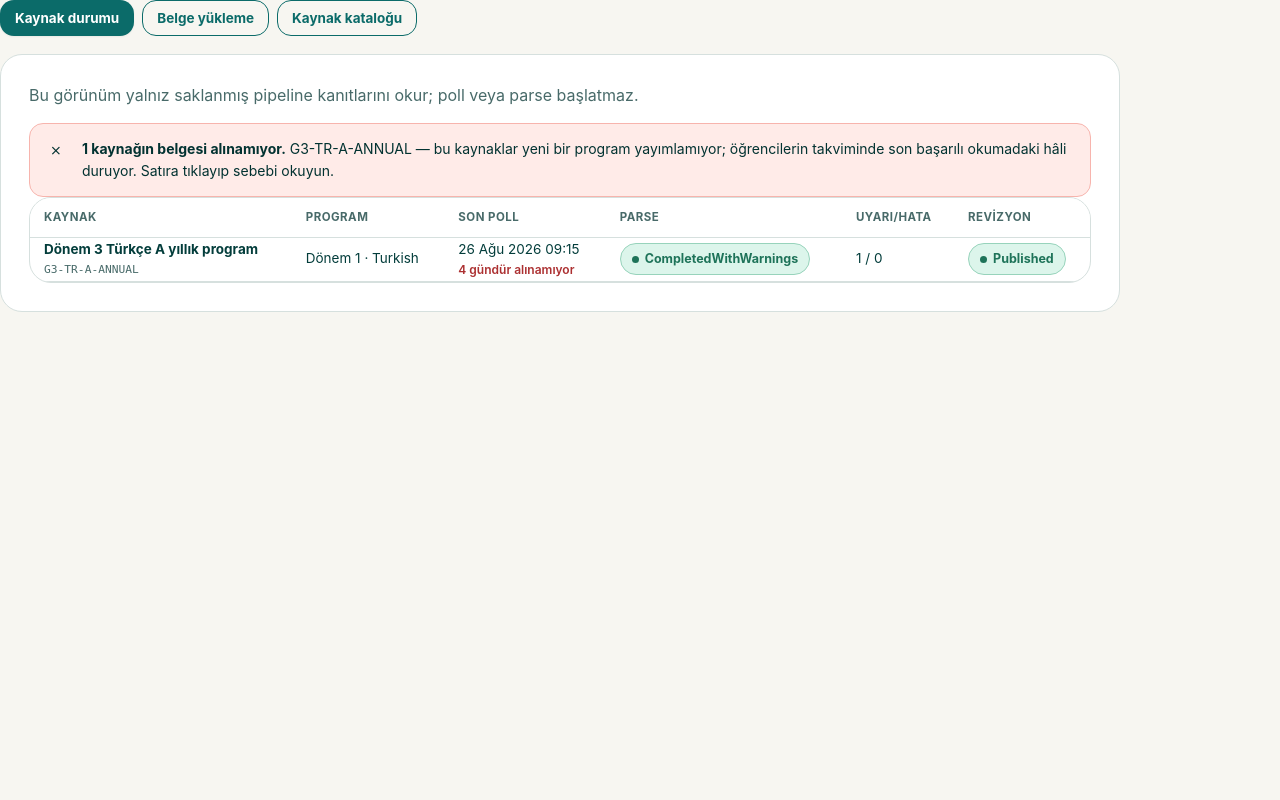
it: AdminSourceWorkspace › says a source whose document cannot be acquired is failing, and for how long
Expected: the text "1 kaynağın belgesi alınamıyor." is shown, [82, 140, 286, 157]
Expected: the text "4 gündür alınamıyor" is shown, [458, 260, 592, 280]
And the reason itself, which is the part that says what to do about it.
Click the text "Dönem 3 Türkçe A yıllık program" at coordinates (151, 250), box [44, 242, 258, 258]
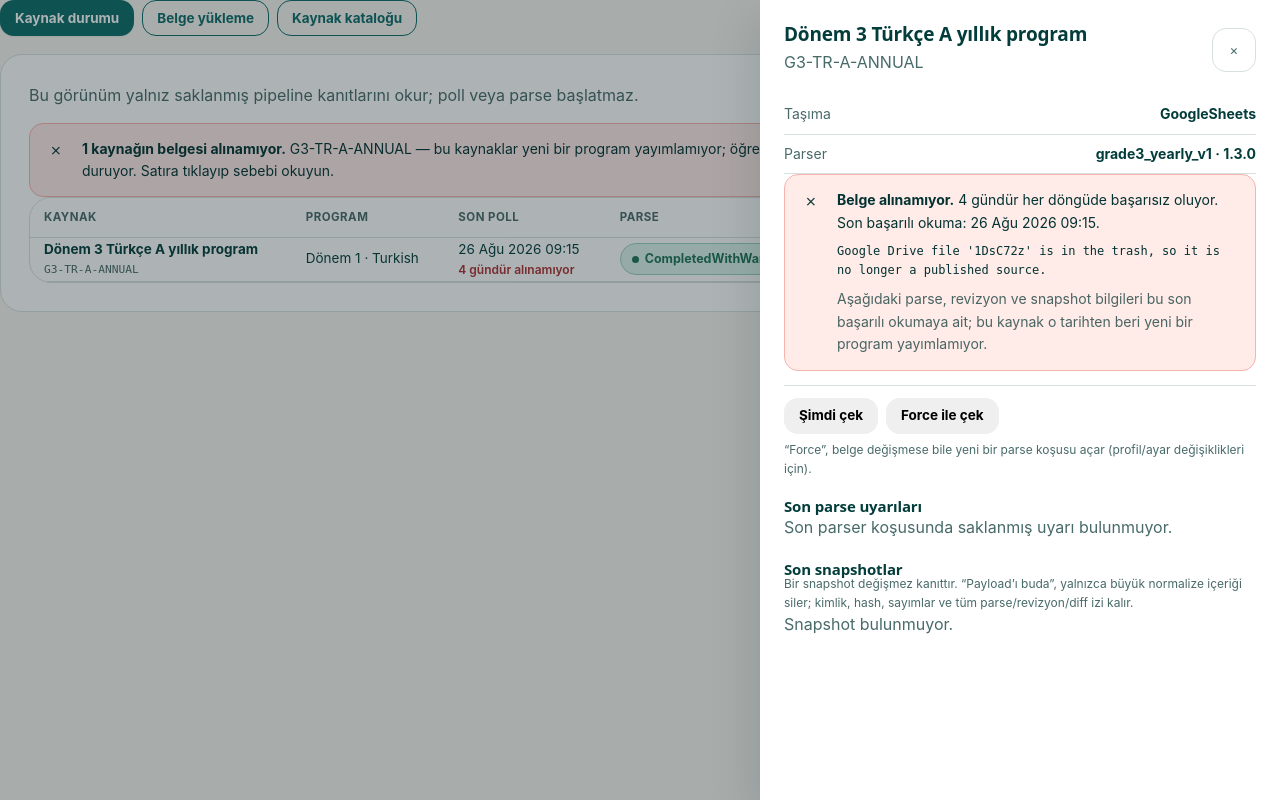
Result: the text "is in the trash" is shown at [837, 244, 1220, 277]
